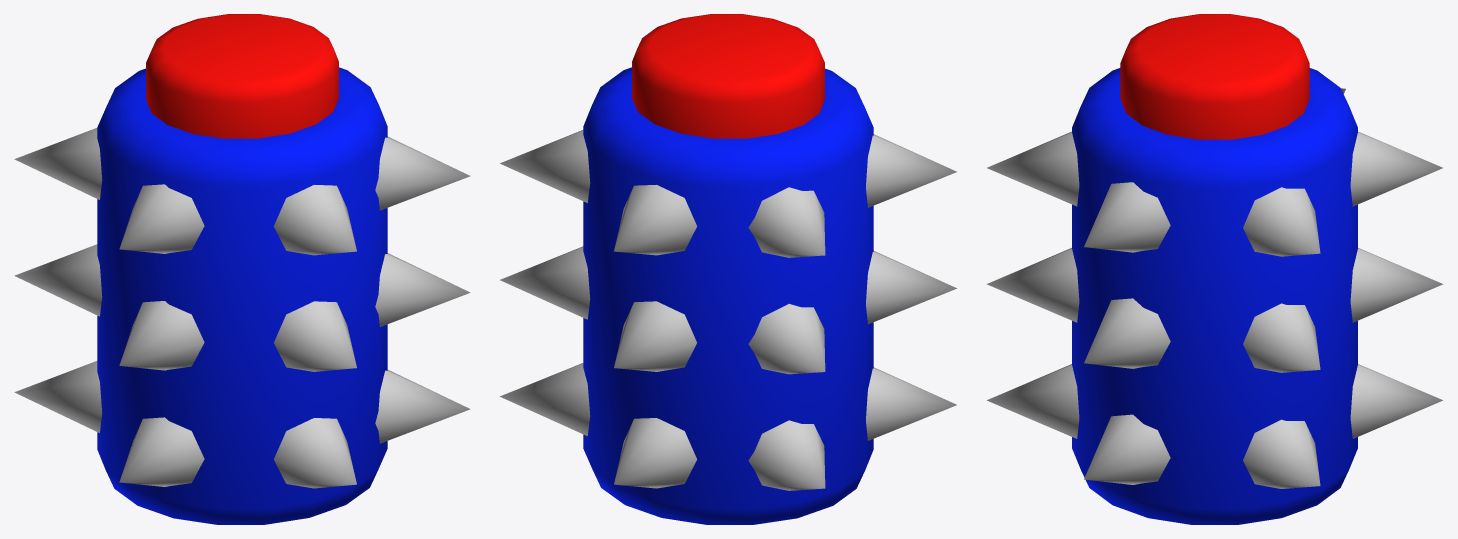
Rendered from Obstacle03.fbx.
The picture shows the model from 3 angles, left to right: view 1: azimuth 30°, elevation 25°; view 2: azimuth 150°, elevation 25°; view 3: azimuth 270°, elevation 25°; orthographic projection.
Parts seen in each view (by area): view 1: Obs03; view 2: Obs03; view 3: Obs03.
Boxes of the visible parts, bbox=[...] form: Obs03: bbox=[14, 14, 470, 524]; Obs03: bbox=[500, 14, 956, 524]; Obs03: bbox=[986, 14, 1443, 524].
Bounding box in the file's own units: 53.61 × 66.51 × 60.44.
